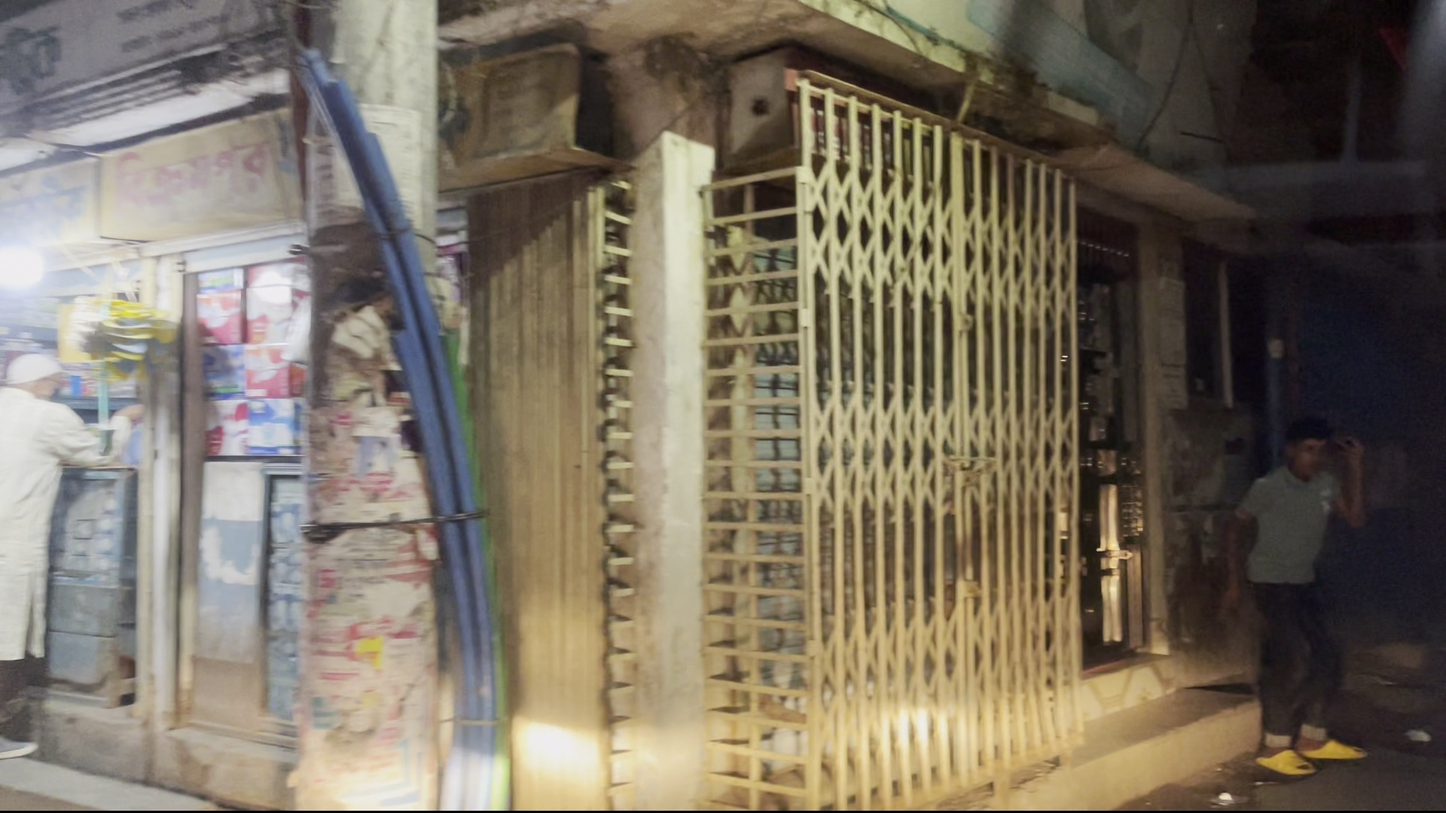person: (1238, 412, 1393, 773), (1, 349, 113, 635)
